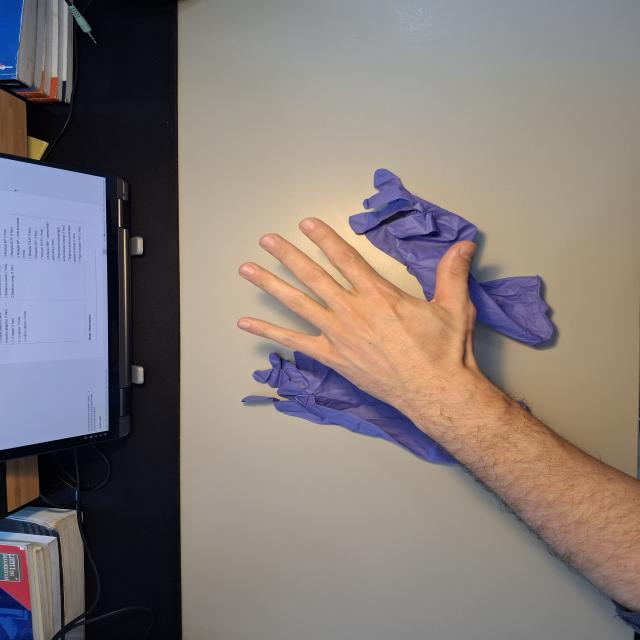glove_off: (236, 215, 479, 412)
